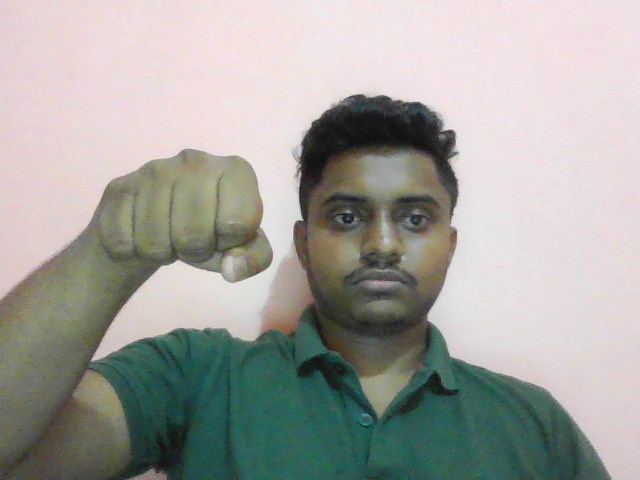Yes: (92, 146, 276, 287)
